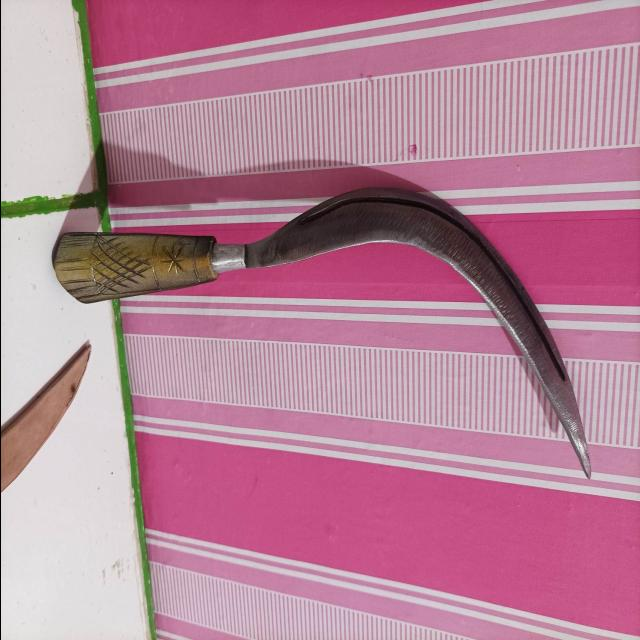Celurit: (54, 177, 596, 483)
